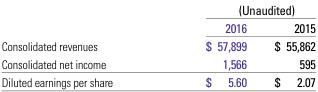table: (0, 1, 314, 89)
table column: (0, 1, 158, 89), (158, 1, 259, 89), (259, 1, 314, 89)
table column header: (0, 1, 314, 36)
table row: (0, 17, 314, 36), (0, 36, 314, 54), (0, 54, 314, 72), (0, 72, 314, 89), (0, 1, 314, 17)
table spanning cell: (158, 1, 314, 17)
